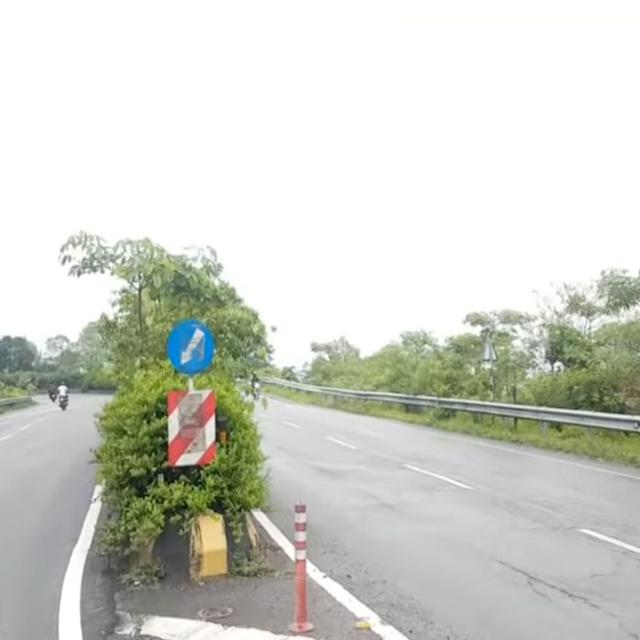compulsory_keep_left: (166, 311, 218, 381)
object_hazzard_to_right: (156, 394, 226, 484)
